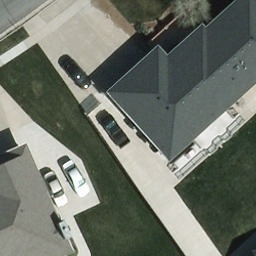car: (62, 160, 93, 197), (61, 58, 95, 90), (43, 172, 71, 208)
pickup: (101, 116, 132, 149)
